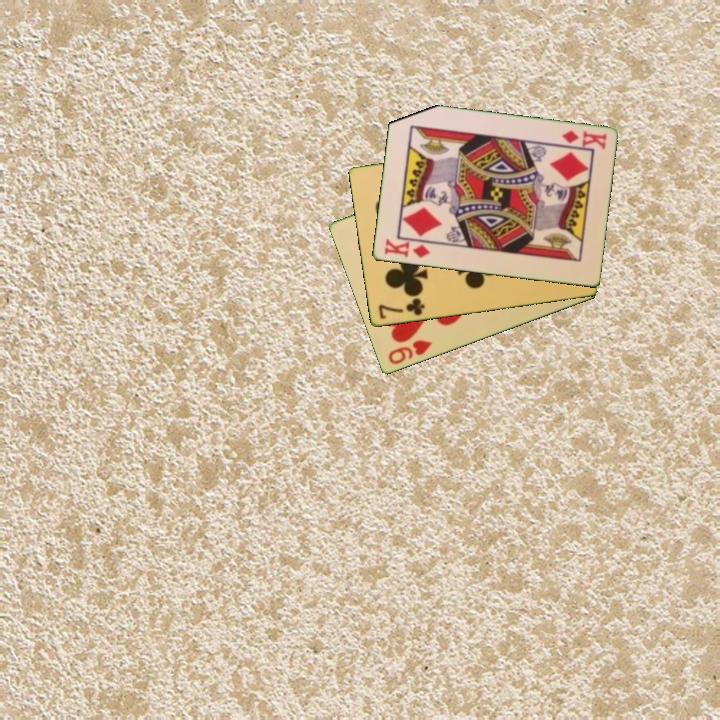7c: (374, 295, 427, 322)
9h: (384, 337, 435, 368)
Kd: (380, 235, 433, 261), (558, 127, 609, 152)
